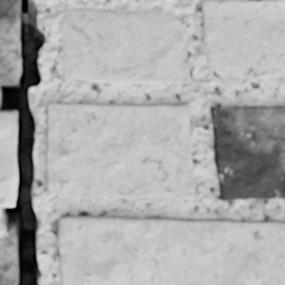brick: (57, 214, 284, 284), (46, 102, 194, 197), (58, 8, 189, 84), (210, 105, 284, 199), (200, 0, 284, 78), (0, 0, 22, 83), (0, 110, 17, 205), (0, 223, 17, 284)
crack: (0, 0, 45, 284)
